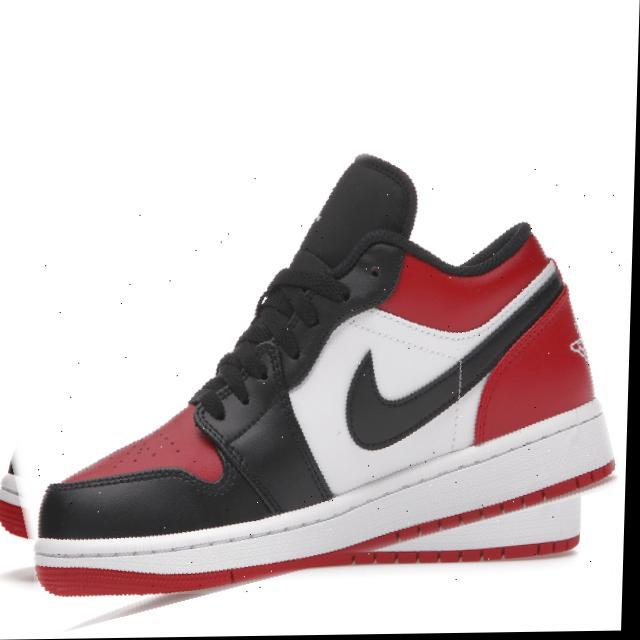J1_InsoleChar: (10, 151, 617, 598)
J1_StitchPattern: (24, 402, 615, 596), (190, 151, 418, 422), (343, 257, 565, 451), (352, 458, 615, 564), (191, 266, 351, 420), (190, 401, 284, 516), (190, 335, 290, 420), (350, 534, 580, 566), (49, 464, 219, 496)
